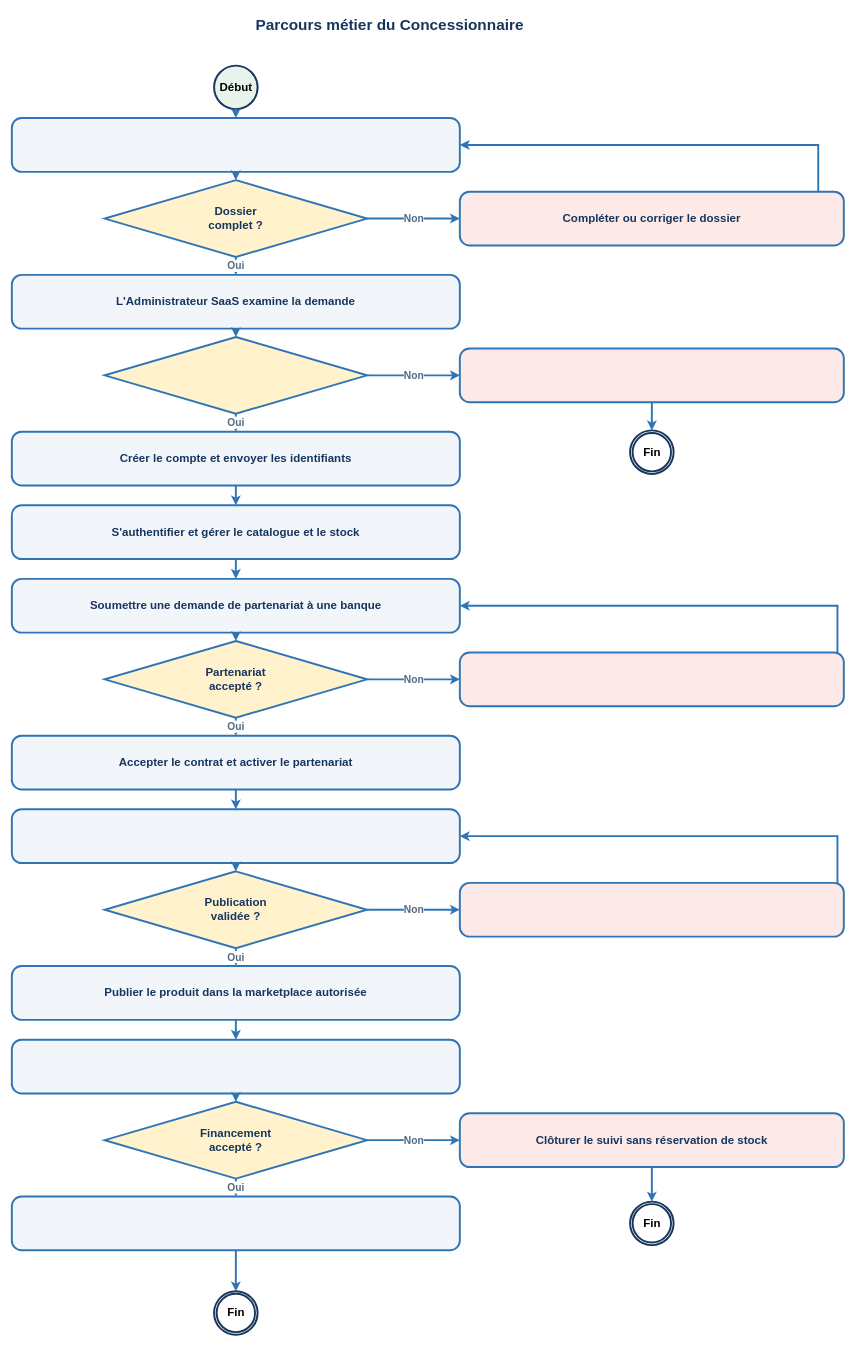
Some shapes in this 856 by 1347 pixel diagram are drawn without their labels. Each missing label, with the centre of its shape:
Corriger les informations du produit: point (651, 909)
Demande approuvée ?: point (235, 375)
Déposer la demande d'inscription Concessionnaire: point (235, 144)
Enregistrer le motif et notifier le rejet: point (651, 375)
Notifier le rejet et permettre une nouvelle demande: point (651, 679)
Réserver le stock du produit concerné: point (235, 1223)
Soumettre un produit à la publication: point (235, 836)
Suivre les demandes de financement associées: point (235, 1066)
